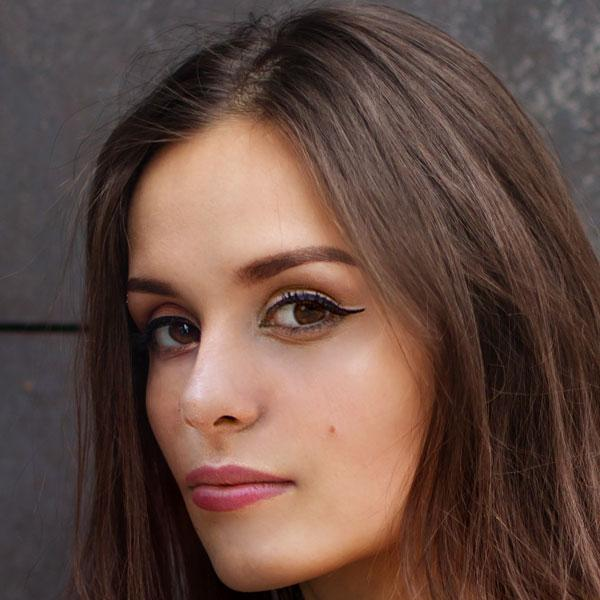Eyes: (236, 273, 362, 348), (142, 298, 209, 372)
